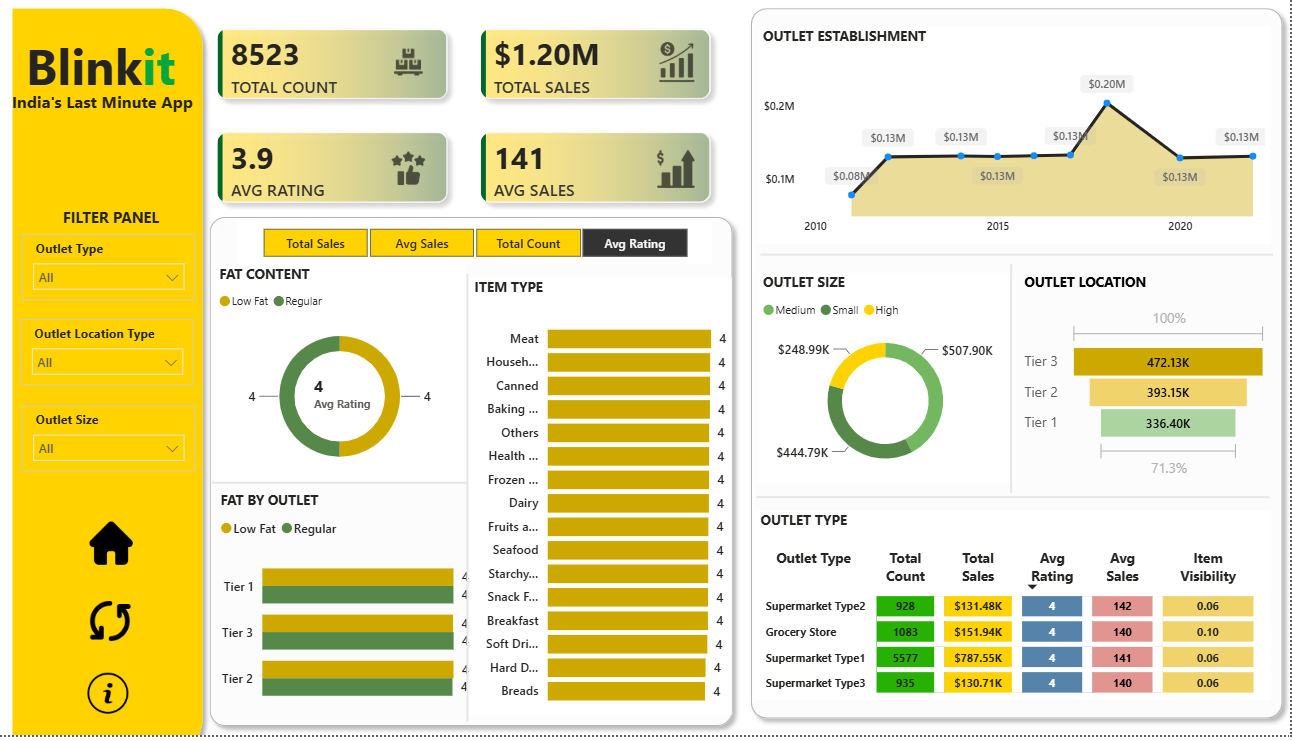

This screenshot's page, from the dashboard's own definition file:
{"tool":"powerbi","page":{"name":"Page 1","canvas":[1280,720],"ordinal":0},"visuals":[{"type":"group","id":"g1","title":"Group 3","box":[200.5,0,541.7,229.9],"z":0},{"type":"cardVisual","fields":{"Data":["BlinkIT Grocery Data.Total Count","BlinkIT Grocery Data.Total Sales","BlinkIT Grocery Data.Avg Rating","BlinkIT Grocery Data.Avg Sales"]},"box":[200.5,0,541.7,229.9],"z":0,"group":"g1"},{"type":"shape","box":[19.6,0,204.5,750],"z":1000},{"type":"shape","box":[742.3,0,538,712.9],"z":2000},{"type":"textbox","box":[20.6,27.4,190.7,75.5],"z":2000,"group":"g2"},{"type":"textbox","box":[4.1,85,226.4,35.7],"z":3000,"group":"g2"},{"type":"shape","box":[212.8,204.2,529.5,516],"z":3000},{"type":"image","box":[392.3,47.2,47.7,28.3],"z":4000,"group":"g4"},{"type":"textbox","box":[45.2,198.1,160.2,31.8],"z":4000},{"type":"image","box":[658.1,41.3,41.9,40.1],"z":5000,"group":"g3"},{"type":"barChart","title":"ITEM TYPE","fields":{"Y":["BlinkIT Grocery Data.Avg Rating"],"Category":["BlinkIT Grocery Data.Item Type"]},"box":[475.7,272.7,256.8,428],"z":5000},{"type":"group","id":"g2","title":"Group 4","box":[4.1,27.4,226.4,93.3],"z":6000},{"type":"image","box":[392.3,148.6,47.7,33],"z":6000,"group":"g4"},{"type":"image","box":[656.7,146.3,41.9,38.9],"z":7000,"group":"g3"},{"type":"donutChart","title":"FAT CONTENT","fields":{"Y":["BlinkIT Grocery Data.Avg Rating"],"Category":["BlinkIT Grocery Data.Item Fat Content"]},"box":[226.2,259.2,245.8,214],"z":7000},{"type":"slicer","fields":{"Values":["Matric.Matric"]},"box":[248.2,217.7,464.7,41.6],"z":8000},{"type":"group","id":"g3","title":"Group 1","box":[656.7,41.3,43.3,143.9],"z":8001,"group":"g4"},{"type":"group","id":"g4","title":"Group 2","box":[392.3,41.3,307.7,143.9],"z":8002,"group":"g1"},{"type":"cardVisual","fields":{"Data":["BlinkIT Grocery Data.Avg Rating"]},"box":[294.7,348.5,132.1,72.1],"z":9000},{"type":"clusteredBarChart","title":"FAT BY OUTLET","fields":{"Y":["BlinkIT Grocery Data.Avg Rating"],"Category":["BlinkIT Grocery Data.Outlet Location Type"],"Series":["BlinkIT Grocery Data.Item Fat Content"]},"box":[227.4,480.6,253.1,226.2],"z":10000},{"type":"shape","box":[223.8,463.5,249.5,19.6],"z":11000},{"type":"shape","box":[452.4,269,42.8,437.8],"z":12000},{"type":"lineChart","title":"OUTLET ESTABLISHMENT","fields":{"Y":["BlinkIT Grocery Data.Total Sales"],"Category":["BlinkIT Grocery Data.Outlet Establishment Year"]},"box":[758.2,26.9,501.4,212.8],"z":13000},{"type":"shape","box":[760.6,245.8,501.4,8.6],"z":14000},{"type":"donutChart","title":"OUTLET SIZE","fields":{"Y":["BlinkIT Grocery Data.Total Sales"],"Category":["BlinkIT Grocery Data.Outlet Size"]},"box":[758.2,267.8,249.5,205.4],"z":15000},{"type":"shape","box":[984.4,259.2,42.8,223.8],"z":16000},{"type":"funnel","title":"OUTLET LOCATION","fields":{"Y":["Sum(BlinkIT Grocery Data.Sales)"],"Category":["BlinkIT Grocery Data.Outlet Location Type"]},"box":[1013.7,267.8,248.2,205.4],"z":17000},{"type":"shape","box":[756.9,483,501.4,8.6],"z":18000},{"type":"pivotTable","title":"OUTLET TYPE","fields":{"Values":["BlinkIT Grocery Data.Total Count","BlinkIT Grocery Data.Total Sales","BlinkIT Grocery Data.Avg Rating","BlinkIT Grocery Data.Avg Sales","Avg(BlinkIT Grocery Data.Item Visibility)"],"Rows":["BlinkIT Grocery Data.Outlet Type"]},"box":[755.7,500.1,503.8,185.9],"z":19000},{"type":"slicer","fields":{"Values":["BlinkIT Grocery Data.Outlet Type"]},"box":[37.9,229.9,170,64.8],"z":20000},{"type":"slicer","fields":{"Values":["BlinkIT Grocery Data.Outlet Location Type"]},"box":[36.7,313.3,170,64.8],"z":21000},{"type":"slicer","fields":{"Values":["BlinkIT Grocery Data.Outlet Size"]},"box":[37.9,397.6,170,64.8],"z":22000},{"type":"image","box":[95.4,511.1,59.9,42.8],"z":23000},{"type":"image","box":[99,583.3,51.4,50.1],"z":24000},{"type":"image","box":[96.6,659.1,51.4,40.4],"z":25000}]}

Visuals, with their boxes in screenshot pixels (x1, y1, x2, y2), scaled from the page's 1280x720 canvas onto the 1293x740 screenshot:
"Group 3" group: 203/0/750/236
cardVisual - BlinkIT Grocery Data.Total Count x BlinkIT Grocery Data.Total Sales: 203/0/750/236
shape: 20/0/226/739
shape: 750/0/1292/733
textbox: 21/28/213/106
textbox: 4/87/233/124
shape: 215/210/750/739
image: 396/49/444/78
textbox: 46/204/207/236
image: 665/42/707/84
"ITEM TYPE" barChart: 481/280/740/720
"Group 4" group: 4/28/233/124
image: 396/153/444/187
image: 663/150/706/190
"FAT CONTENT" donutChart: 228/266/477/486
slicer - Matric.Matric: 251/224/720/267
"Group 1" group: 663/42/707/190
"Group 2" group: 396/42/707/190
cardVisual - BlinkIT Grocery Data.Avg Rating: 298/358/431/432
"FAT BY OUTLET" clusteredBarChart: 230/494/485/726
shape: 226/476/478/497
shape: 457/276/500/726
"OUTLET ESTABLISHMENT" lineChart: 766/28/1272/246
shape: 768/253/1275/261
"OUTLET SIZE" donutChart: 766/275/1018/486
shape: 994/266/1038/496
"OUTLET LOCATION" funnel: 1024/275/1275/486
shape: 765/496/1271/505
"OUTLET TYPE" pivotTable: 763/514/1272/705
slicer - BlinkIT Grocery Data.Outlet Type: 38/236/210/303
slicer - BlinkIT Grocery Data.Outlet Location Type: 37/322/209/389
slicer - BlinkIT Grocery Data.Outlet Size: 38/409/210/475
image: 96/525/157/569
image: 100/600/152/651
image: 98/677/150/719
